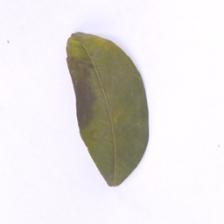black spot: (55, 58, 107, 119)
